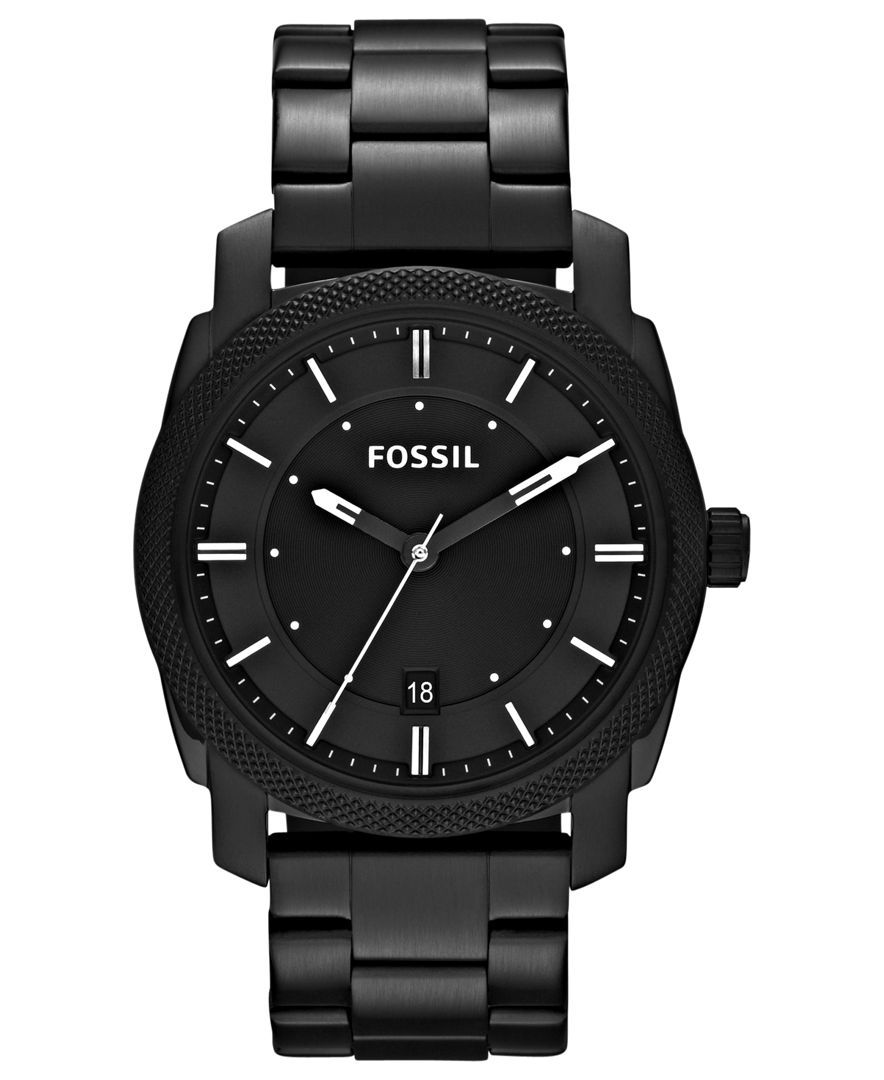clock: (133, 267, 710, 836)
